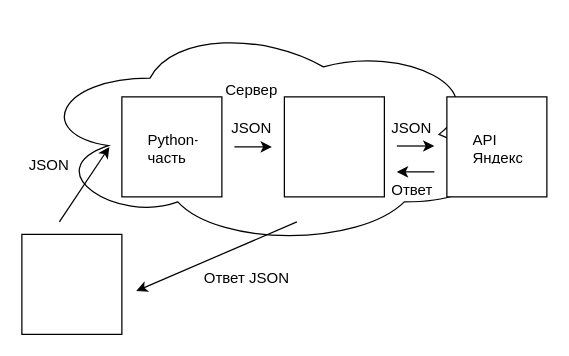
The diagram is 569 pixels wide and 356 high, and some of its shapes have lost their labels. Here are the shapes that lost their labels. From the top down, the centre of each, then its label:
pixel 333 146: Kotlin-часть
pixel 71 283: Клиент
